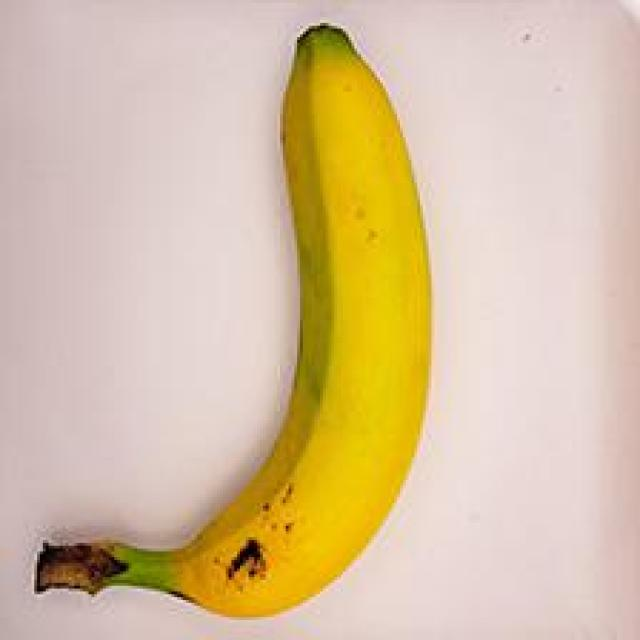unripe: (28, 21, 448, 625)
